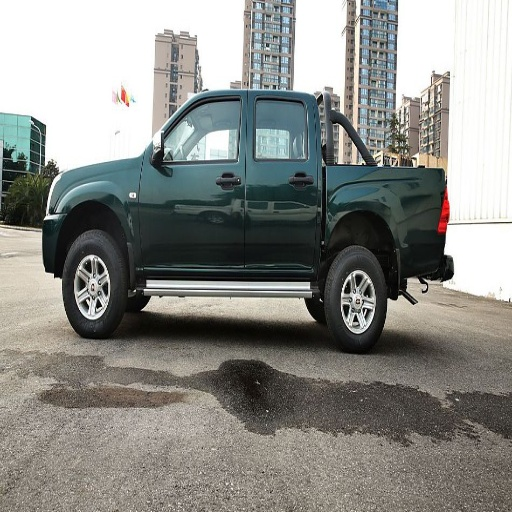back_left_door: (245, 92, 318, 269)
trunk: (315, 166, 440, 274)
